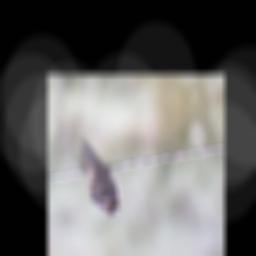Swallow: (73, 137, 121, 218)
